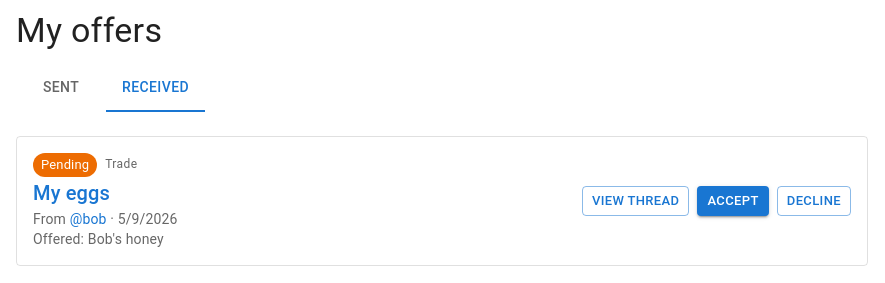
Test: MyOffersPage › declines a received offer and updates status
Expected: the text "My eggs" is shown, [33,181,110,205]
Click the button "Decline". click: (814, 201)
box: [777,186,851,216]
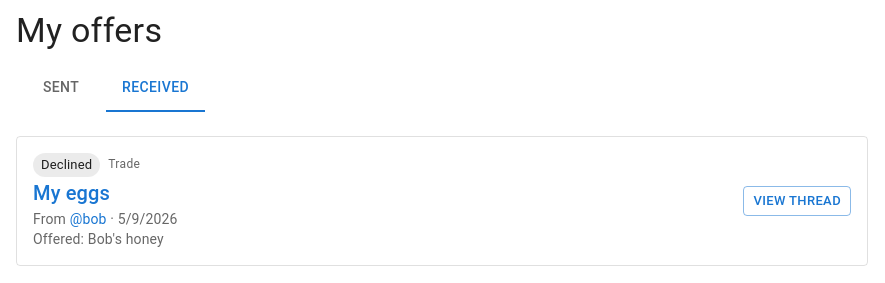
Now the text "Declined" is shown, box [41,157,92,172]
